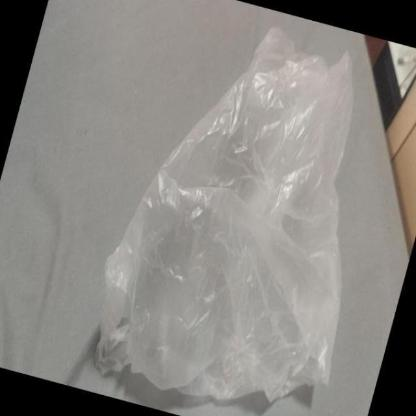Plastic Bag: (97, 31, 354, 400)
